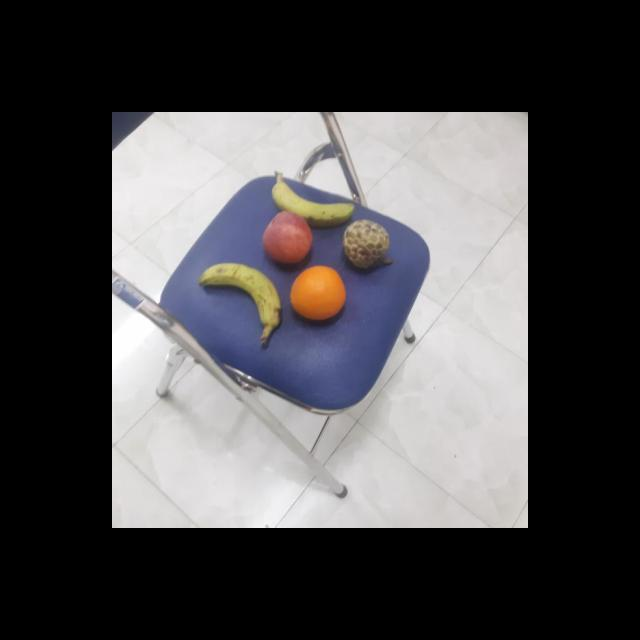Sakya fruit: (342, 216, 392, 268)
apple: (260, 210, 314, 266)
banana: (198, 262, 282, 328), (266, 175, 356, 228)
orange: (287, 262, 348, 322)
